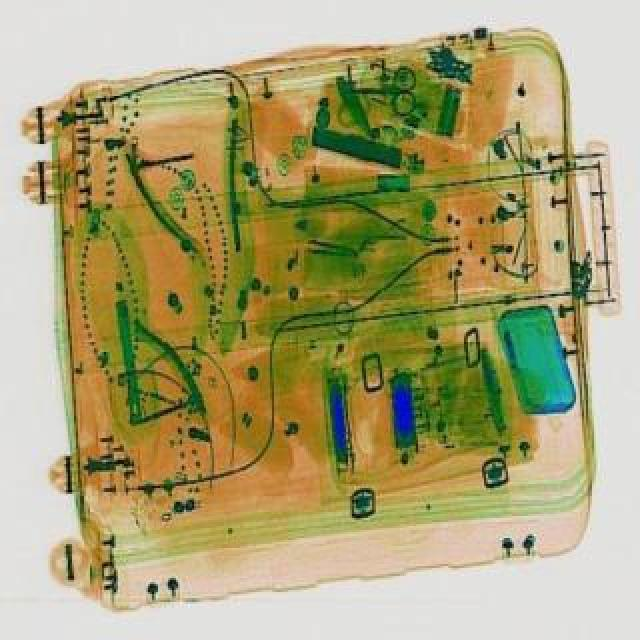pliers: (352, 70, 420, 122)
